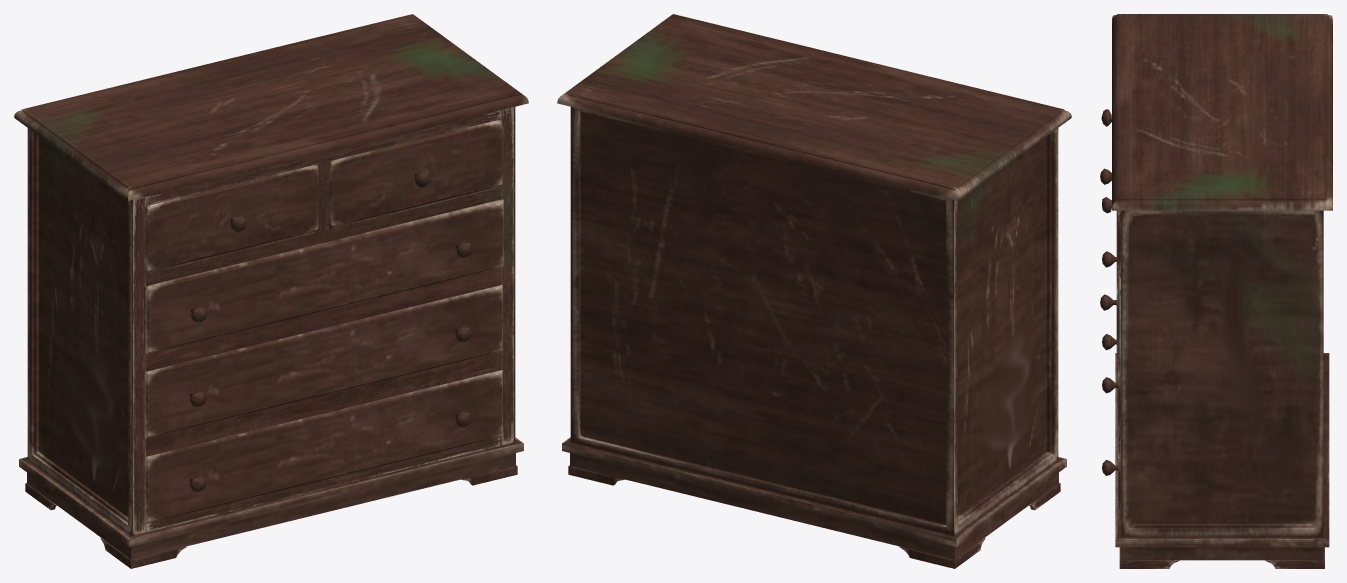
File: ChestOfDrawersAct.fbx
The picture shows the model from 3 angles, left to right: view 1: azimuth 30°, elevation 25°; view 2: azimuth 150°, elevation 25°; view 3: azimuth 270°, elevation 25°; orthographic projection. The views are drawn at different scales.
Parts seen in each view (by area): view 1: Mueble base.001; view 2: Mueble base.001; view 3: Mueble base.001.
Part boxes in pixels (bbox=[...]): Mueble base.001: bbox=[14, 14, 528, 568]; Mueble base.001: bbox=[557, 14, 1071, 568]; Mueble base.001: bbox=[1100, 14, 1332, 568].
Bounding box in the file's own units: 243 × 221 × 126.
1 material, 1 textured.
